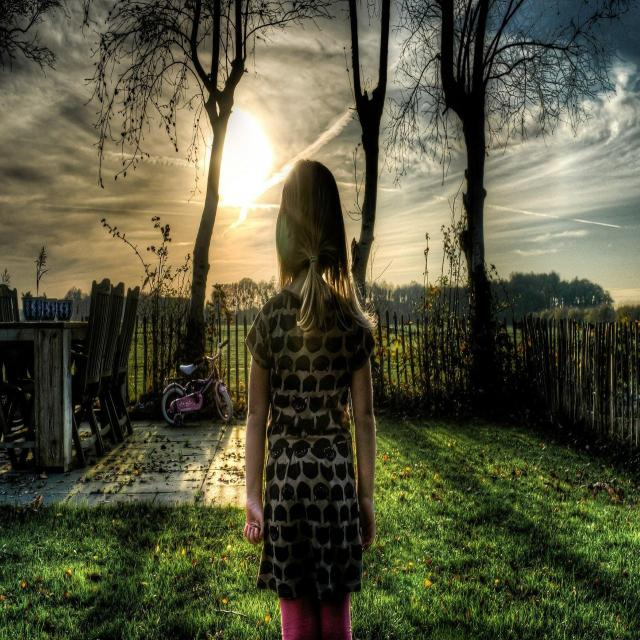person: (235, 139, 391, 639)
